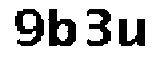3: (80, 3, 114, 49)
9: (11, 5, 44, 51)
b: (48, 6, 79, 48)
u: (116, 14, 149, 51)
